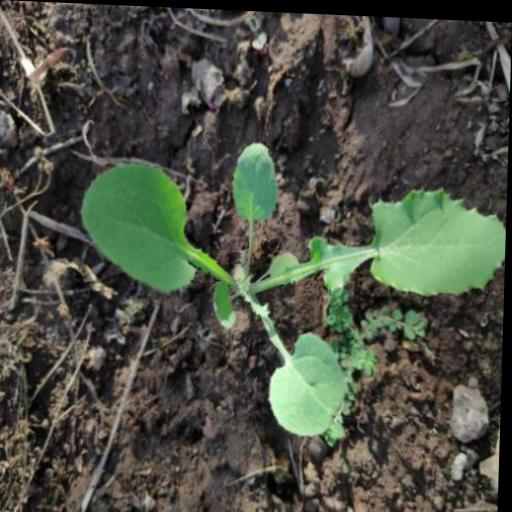weed: (54, 116, 509, 454)
